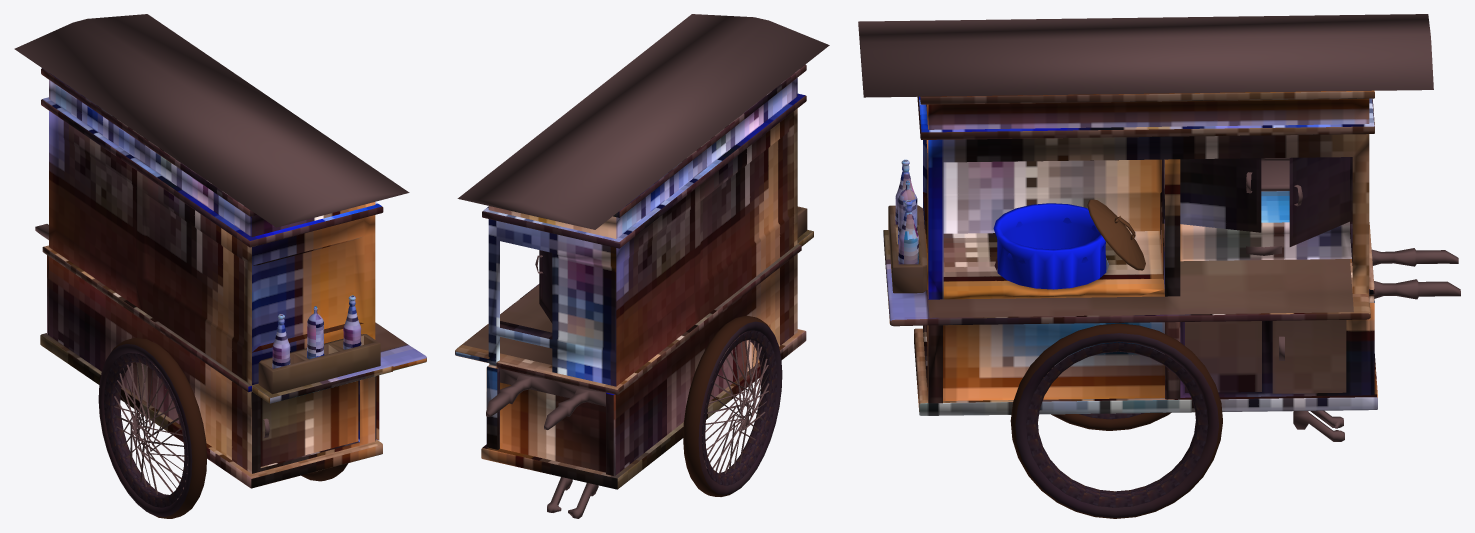
The model's file is CarritoV2.fbx.
The picture shows the model from 3 angles, left to right: view 1: azimuth 30°, elevation 25°; view 2: azimuth 150°, elevation 25°; view 3: azimuth 270°, elevation 25°; orthographic projection. The views are drawn at different scales.
Visible parts, largest first — view 1: gerobak_Cube.006; view 2: gerobak_Cube.006; view 3: gerobak_Cube.006.
Boxes of the visible parts, left/top/right/bottom form: gerobak_Cube.006: left=14, top=14, right=426, bottom=518; gerobak_Cube.006: left=455, top=14, right=829, bottom=518; gerobak_Cube.006: left=858, top=14, right=1460, bottom=518.
Size of the model in its own units: 102 by 190 by 242.
1 material, 1 textured.
